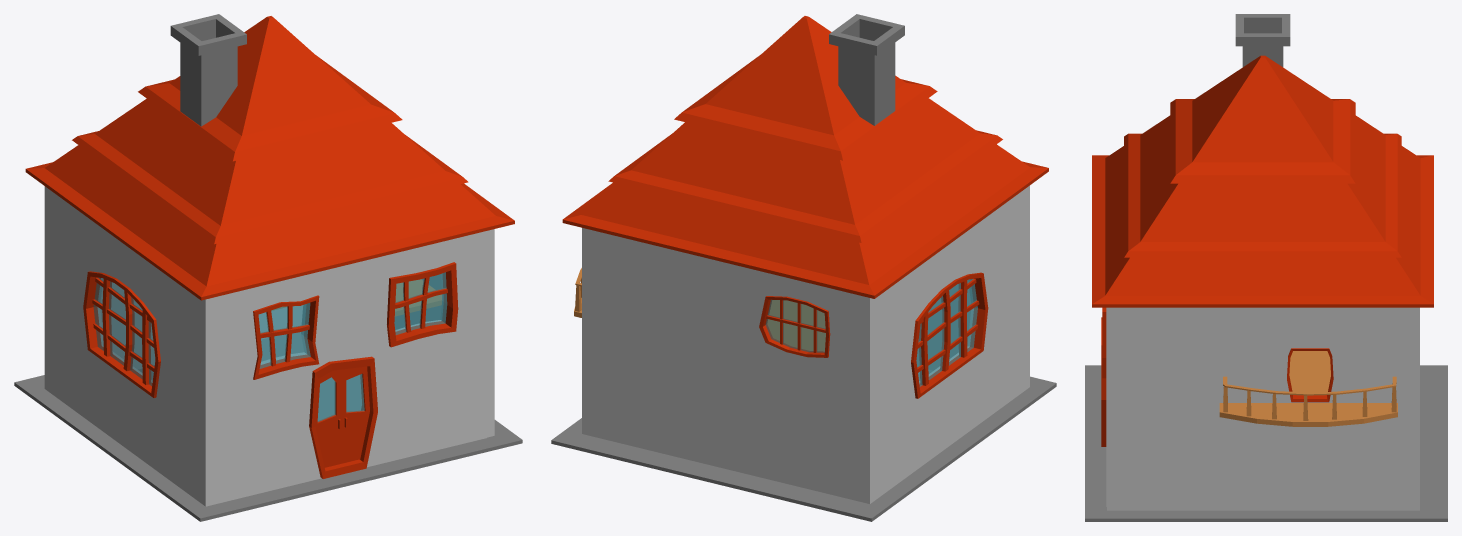
Rendered from redRoofSmall.fbx.
The picture shows the model from 3 angles, left to right: view 1: azimuth 30°, elevation 25°; view 2: azimuth 150°, elevation 25°; view 3: azimuth 270°, elevation 25°; orthographic projection. The views are drawn at different scales.
Parts seen in each view (by area): view 1: house40; view 2: house40; view 3: house40.
Boxes of the visible parts, <box> form: house40: <box>14,14,522,521</box>; house40: <box>551,14,1056,521</box>; house40: <box>1085,14,1447,521</box>.
Size of the model in its own units: 518 by 574 by 483.
